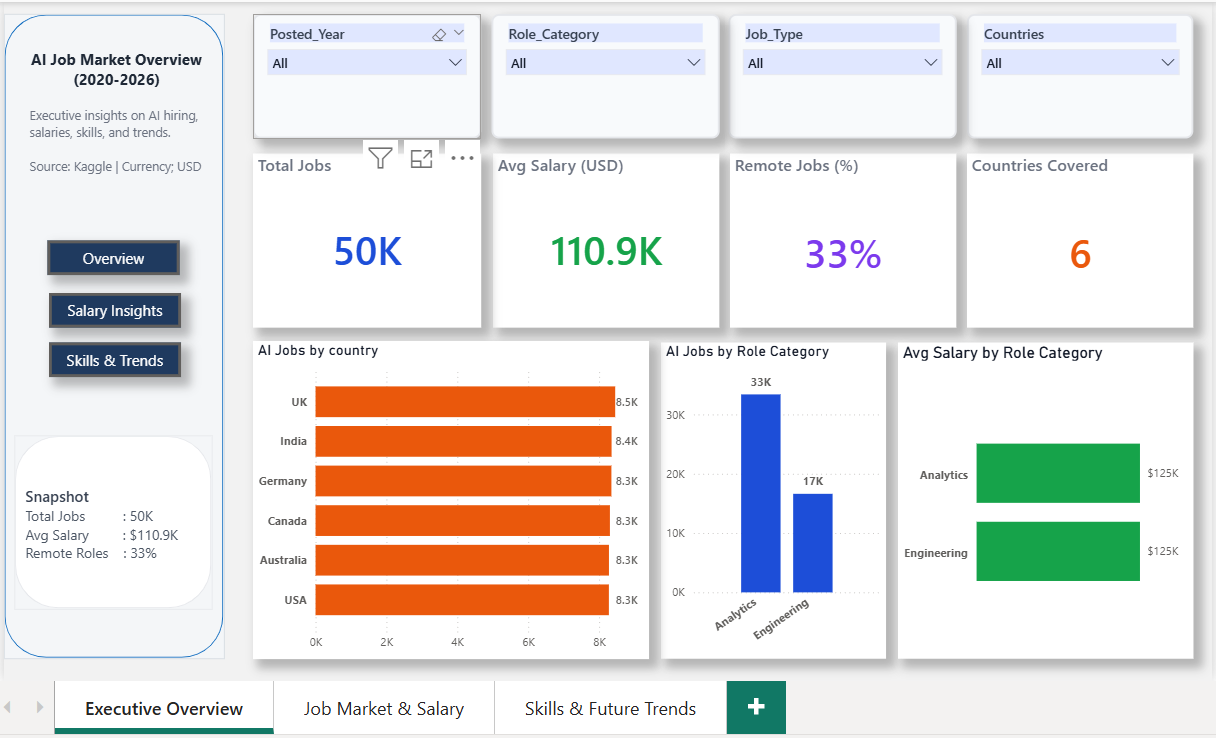

What the dashboard file says about the page in this screenshot:
{"tool":"powerbi","page":{"name":"Executive Overview","canvas":[1280,720],"ordinal":0},"visuals":[{"type":"card","title":"Avg Salary (USD)","fields":{"Values":["ai_jobs.Avrg salary"]},"box":[518.5,160.7,240.2,184.5],"z":0},{"type":"shape","box":[11.1,459.7,210,184.5],"z":0,"group":"g3"},{"type":"card","title":"Total Jobs","fields":{"Values":["ai_jobs.Total_jobs"]},"box":[264,160.7,241.8,184.5],"z":1000},{"type":"textbox","box":[17.2,507.9,187.7,100.2],"z":1000,"group":"g3"},{"type":"card","title":"Remote Jobs (%)","fields":{"Values":["ai_jobs.% remote jobs"]},"box":[769.9,160.7,240.2,184.5],"z":2000},{"type":"card","title":"Countries Covered","fields":{"Values":["dim_country.total countries"]},"box":[1021.2,160.7,240.2,184.5],"z":3000},{"type":"shape","box":[0,12.7,233.8,684],"z":4000,"group":"g2"},{"type":"columnChart","title":"AI Jobs by Role Category","fields":{"Category":["job_title_mapping.role_category"],"Y":["ai_jobs.Total_jobs"]},"box":[696.7,361.1,238.6,335.6],"z":4000},{"type":"textbox","box":[11.1,44.9,210,157.5],"z":5000,"group":"g2"},{"type":"barChart","title":"AI Jobs by country","fields":{"Category":["ai_jobs.country"],"Y":["ai_jobs.Total_jobs"]},"box":[264,359.5,419.9,337.2],"z":5000},{"type":"clusteredBarChart","title":"Avg Salary by Role Category","fields":{"Category":["job_title_mapping.role_category"],"Y":["country_ai_trends.Avg salary"]},"box":[948,361.1,313.4,335.6],"z":6000},{"type":"slicer","fields":{"Values":["dim_year.posted_year"]},"box":[264,12.7,241.8,132],"z":7000},{"type":"slicer","fields":{"Values":["ai_jobs.country"]},"box":[1021.2,12.7,240.2,132],"z":8000},{"type":"slicer","fields":{"Values":["ai_jobs.remote_type"]},"box":[768.3,12.7,241.8,132],"z":9000},{"type":"slicer","fields":{"Values":["job_title_mapping.role_category"]},"box":[516.9,12.7,241.8,132],"z":10000},{"type":"group","id":"g1","title":"Group 1","box":[0,12.7,233.8,684],"z":11000},{"type":"actionButton","title":"Salary Insights","box":[47.7,308.6,140,36.6],"z":12000},{"type":"actionButton","title":"Salary Insights","box":[47.7,361.1,140,36.6],"z":13000},{"type":"actionButton","title":"Salary Insights","box":[46.1,252.9,140,36.6],"z":14000},{"type":"group","id":"g2","title":"Group 3","box":[0,12.7,233.8,684],"z":14004,"group":"g1"},{"type":"group","id":"g3","title":"Group 4","box":[11.1,459.7,210,184.5],"z":14004,"group":"g4"},{"type":"group","id":"g4","title":"Group 2","box":[11.1,459.7,210,184.5],"z":15000}]}

Visuals, with their boxes on the page's 1280x720 design canvas (x1, y1, x2, y2). These are canvas units, not pixel positions in the 1216x738 screenshot, which may show the page scaled, cropped or inside an application window:
"Avg Salary (USD)" card: l=518, t=161, r=759, b=345
shape: l=11, t=460, r=221, b=644
"Total Jobs" card: l=264, t=161, r=506, b=345
textbox: l=17, t=508, r=205, b=608
"Remote Jobs (%)" card: l=770, t=161, r=1010, b=345
"Countries Covered" card: l=1021, t=161, r=1261, b=345
shape: l=0, t=13, r=234, b=697
"AI Jobs by Role Category" columnChart: l=697, t=361, r=935, b=697
textbox: l=11, t=45, r=221, b=202
"AI Jobs by country" barChart: l=264, t=360, r=684, b=697
"Avg Salary by Role Category" clusteredBarChart: l=948, t=361, r=1261, b=697
slicer - dim_year.posted_year: l=264, t=13, r=506, b=145
slicer - ai_jobs.country: l=1021, t=13, r=1261, b=145
slicer - ai_jobs.remote_type: l=768, t=13, r=1010, b=145
slicer - job_title_mapping.role_category: l=517, t=13, r=759, b=145
"Group 1" group: l=0, t=13, r=234, b=697
"Salary Insights" actionButton: l=48, t=309, r=188, b=345
"Salary Insights" actionButton: l=48, t=361, r=188, b=398
"Salary Insights" actionButton: l=46, t=253, r=186, b=290
"Group 3" group: l=0, t=13, r=234, b=697
"Group 4" group: l=11, t=460, r=221, b=644
"Group 2" group: l=11, t=460, r=221, b=644
